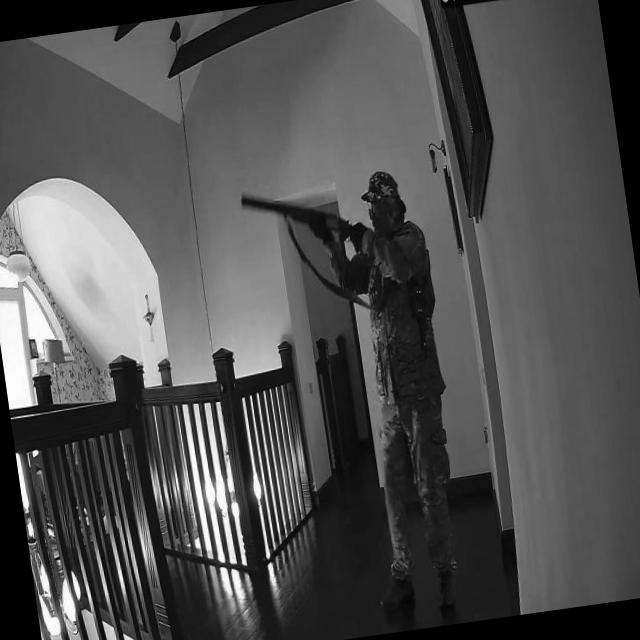gun: (237, 178, 368, 252)
person with a gun: (235, 162, 479, 629)
